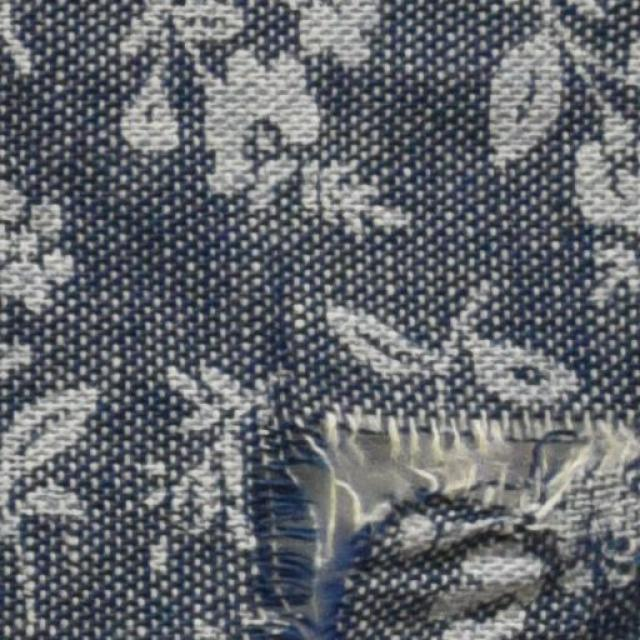Hole: (309, 436, 502, 533)
Snag: (245, 403, 369, 638), (501, 413, 639, 522)
